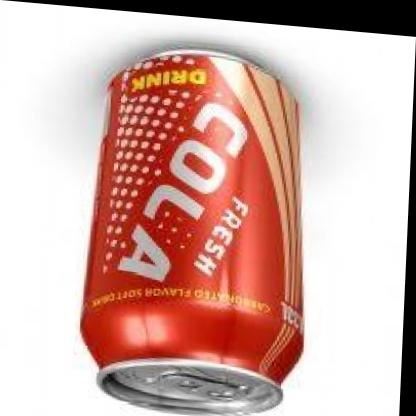trash: (81, 51, 302, 412)
